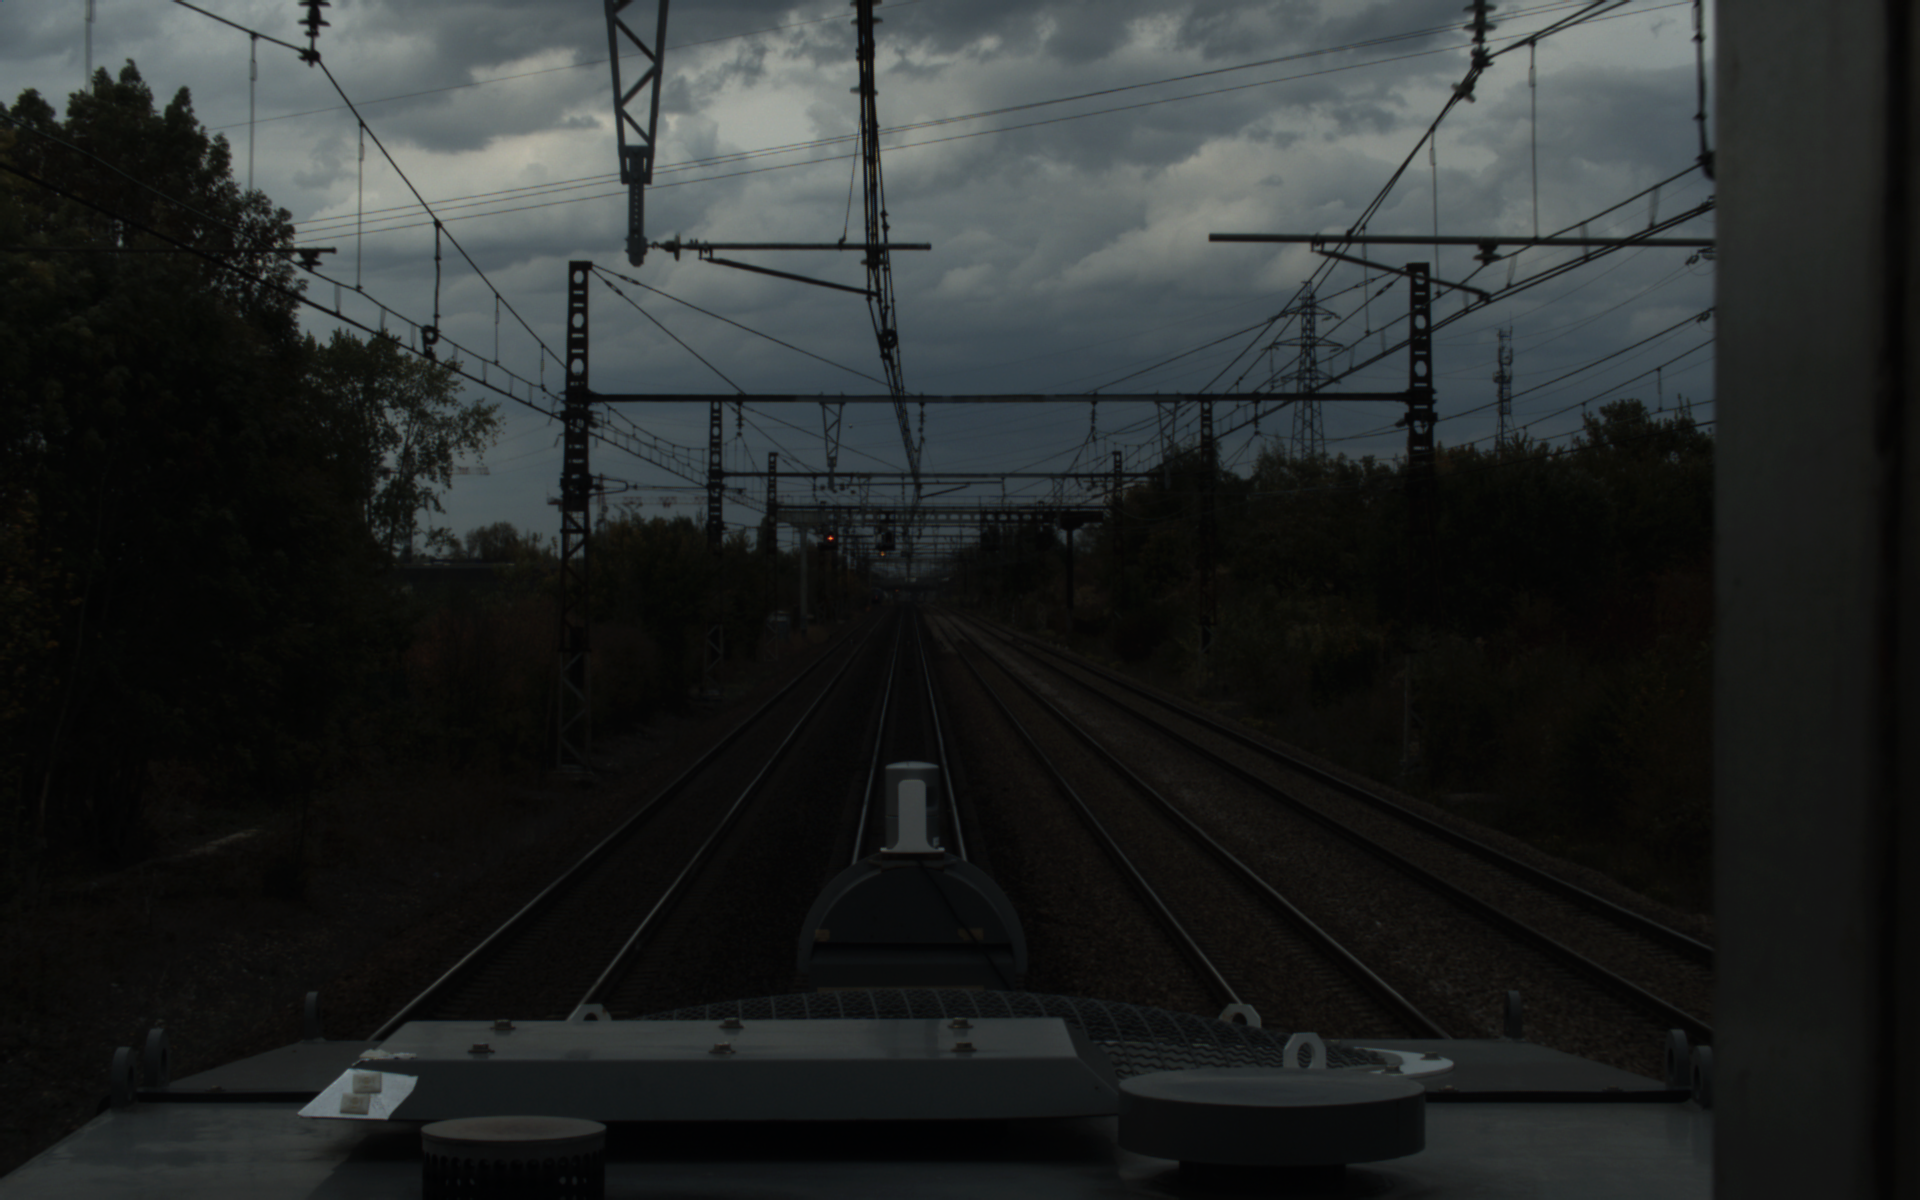Blinking: (881, 529, 894, 547)
Fixed: (822, 529, 836, 547)
